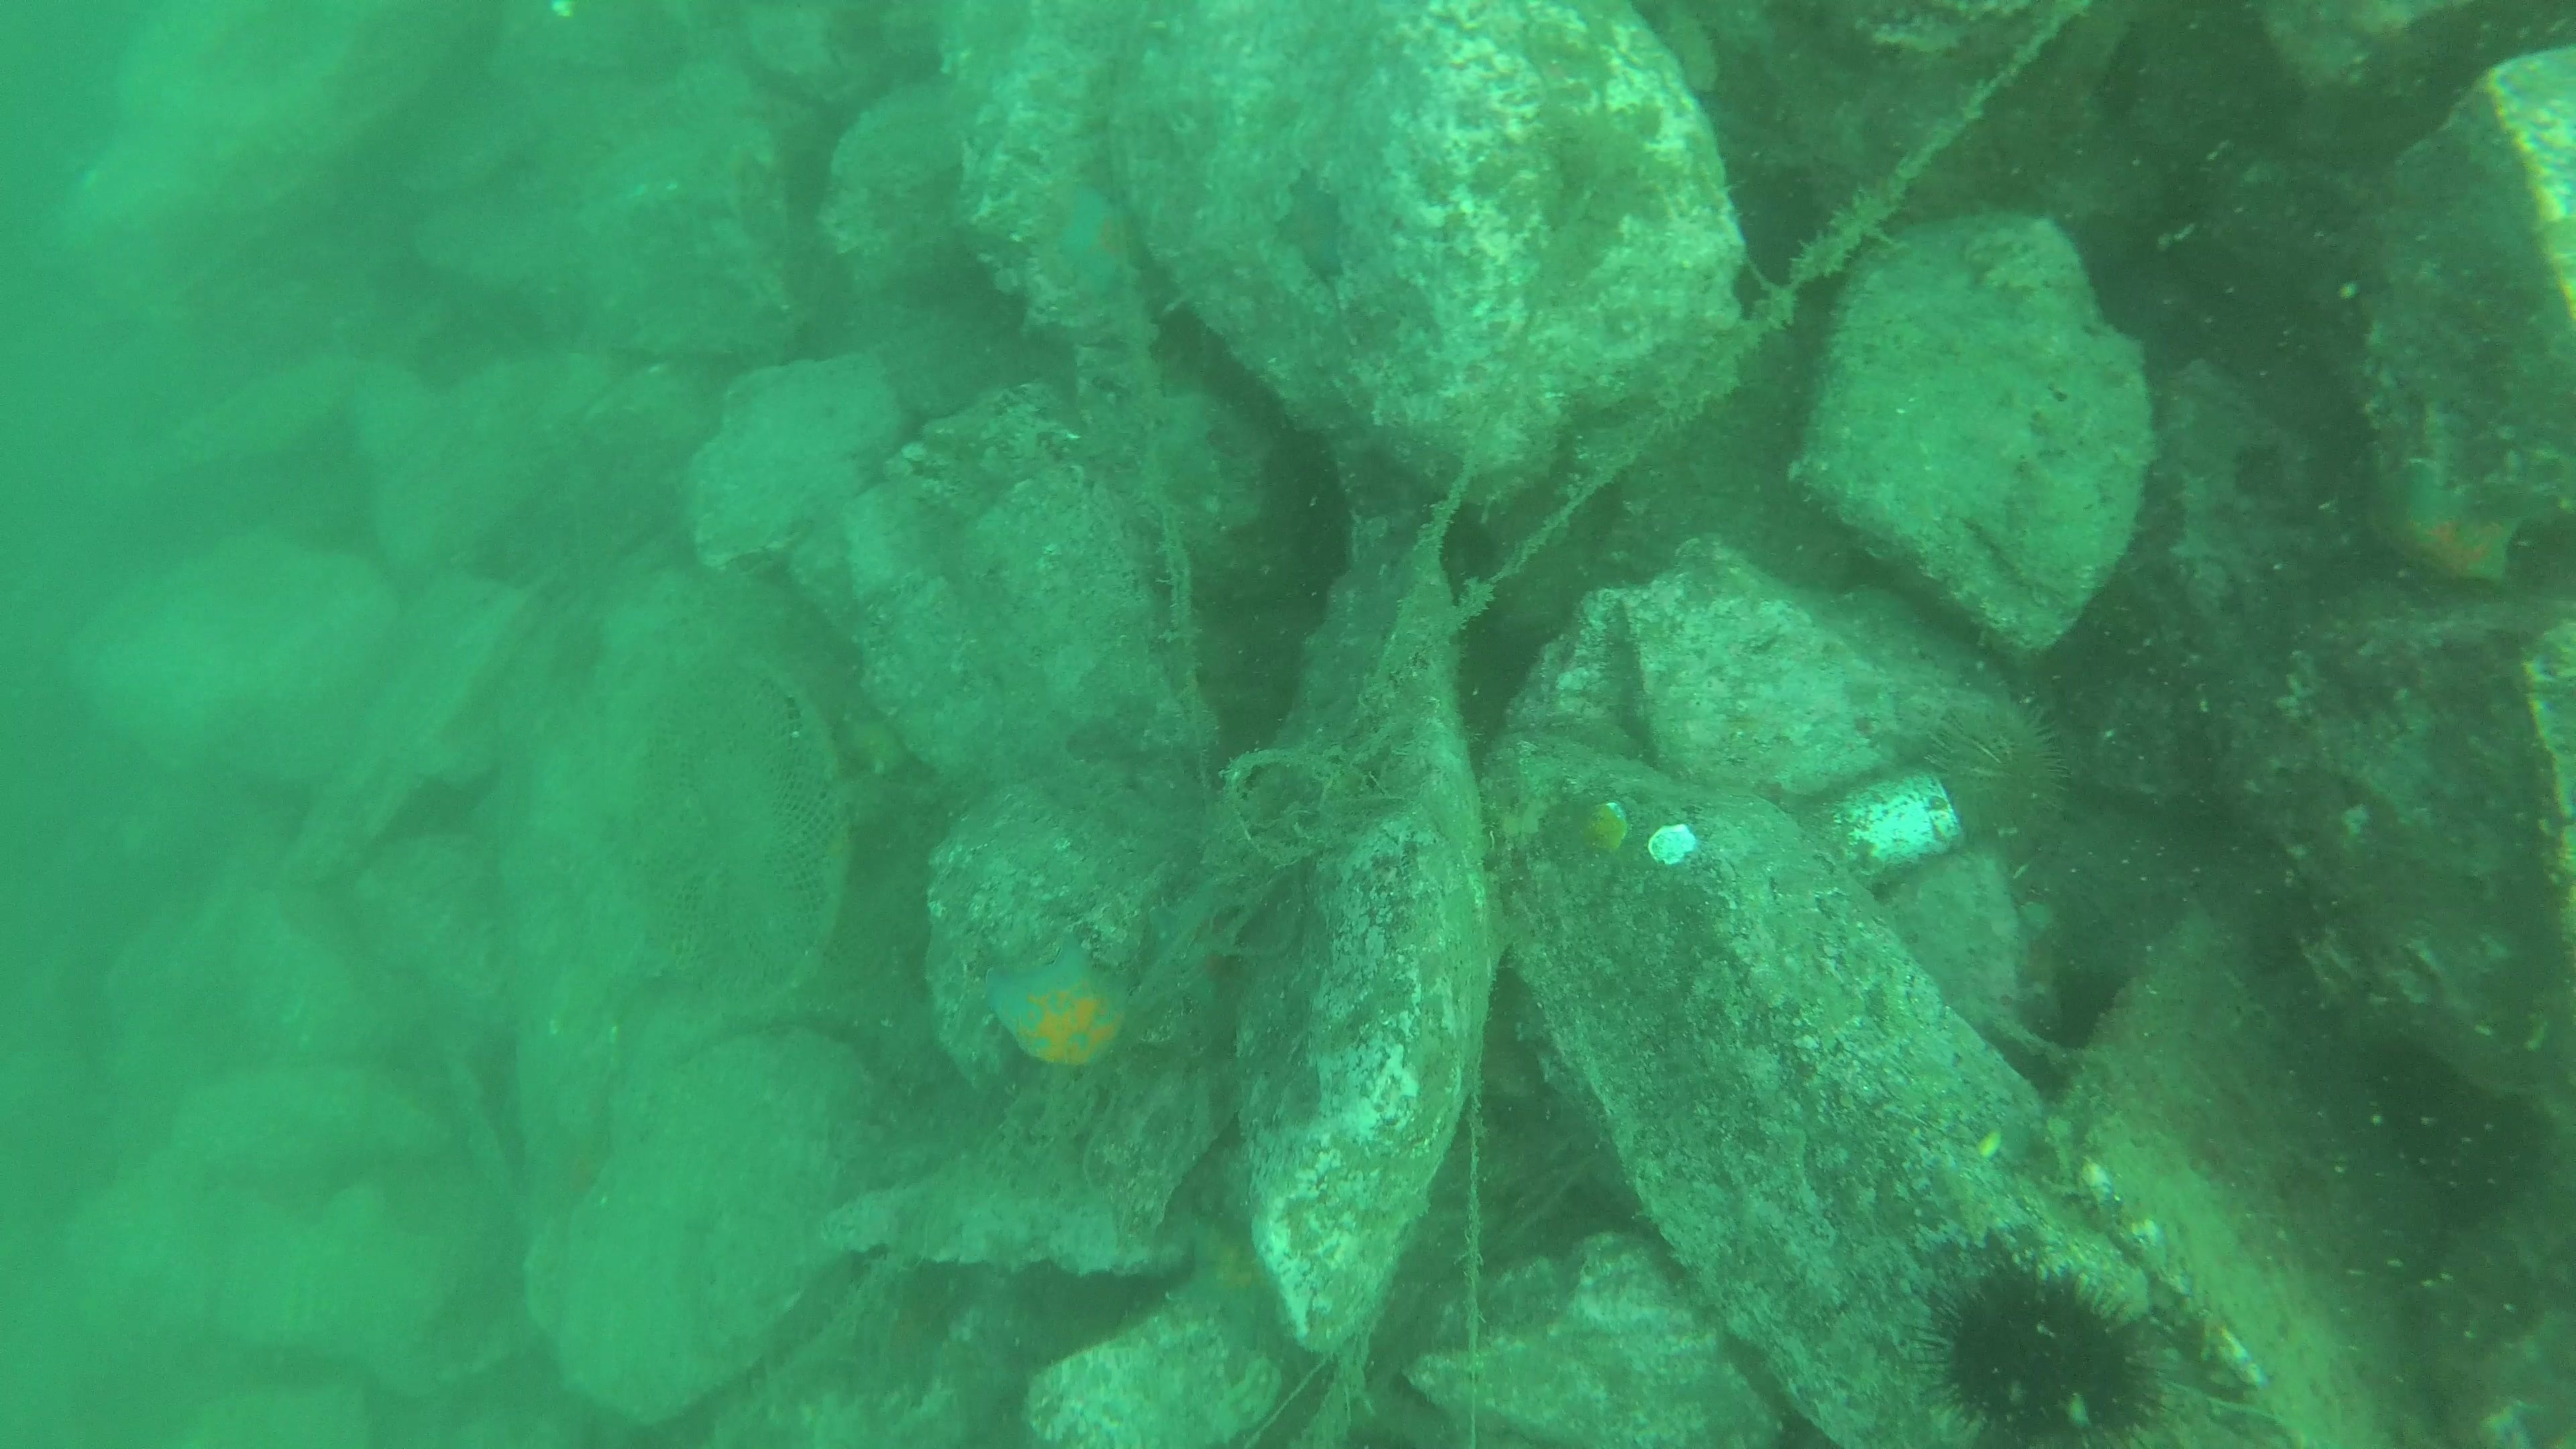echinus: (1921, 1256, 2173, 1440), (2360, 1047, 2551, 1226), (1923, 688, 2079, 853)
starfish: (978, 936, 1152, 1088), (2365, 456, 2532, 602), (1171, 1205, 1284, 1348), (1039, 170, 1148, 310), (1269, 166, 1361, 288)
